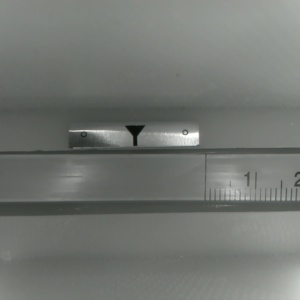1: (244, 172, 250, 187)
2: (293, 171, 300, 187)
finger: (125, 126, 145, 144)
